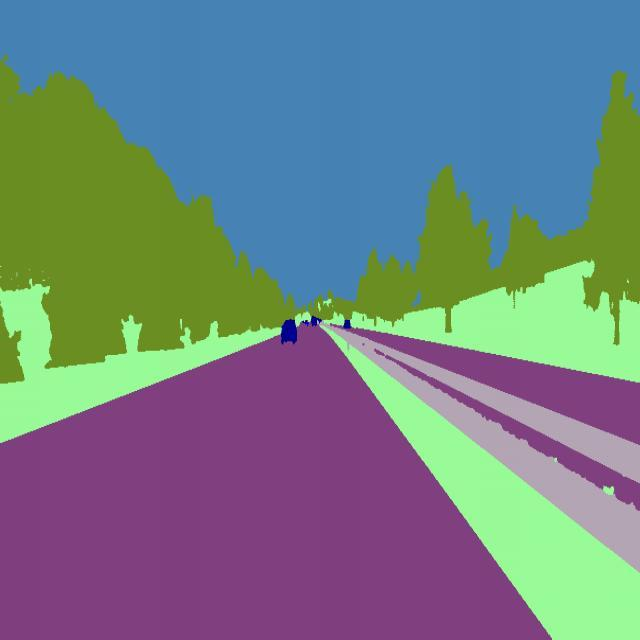safe: (275, 313, 301, 352), (342, 318, 355, 336), (308, 312, 320, 330)
